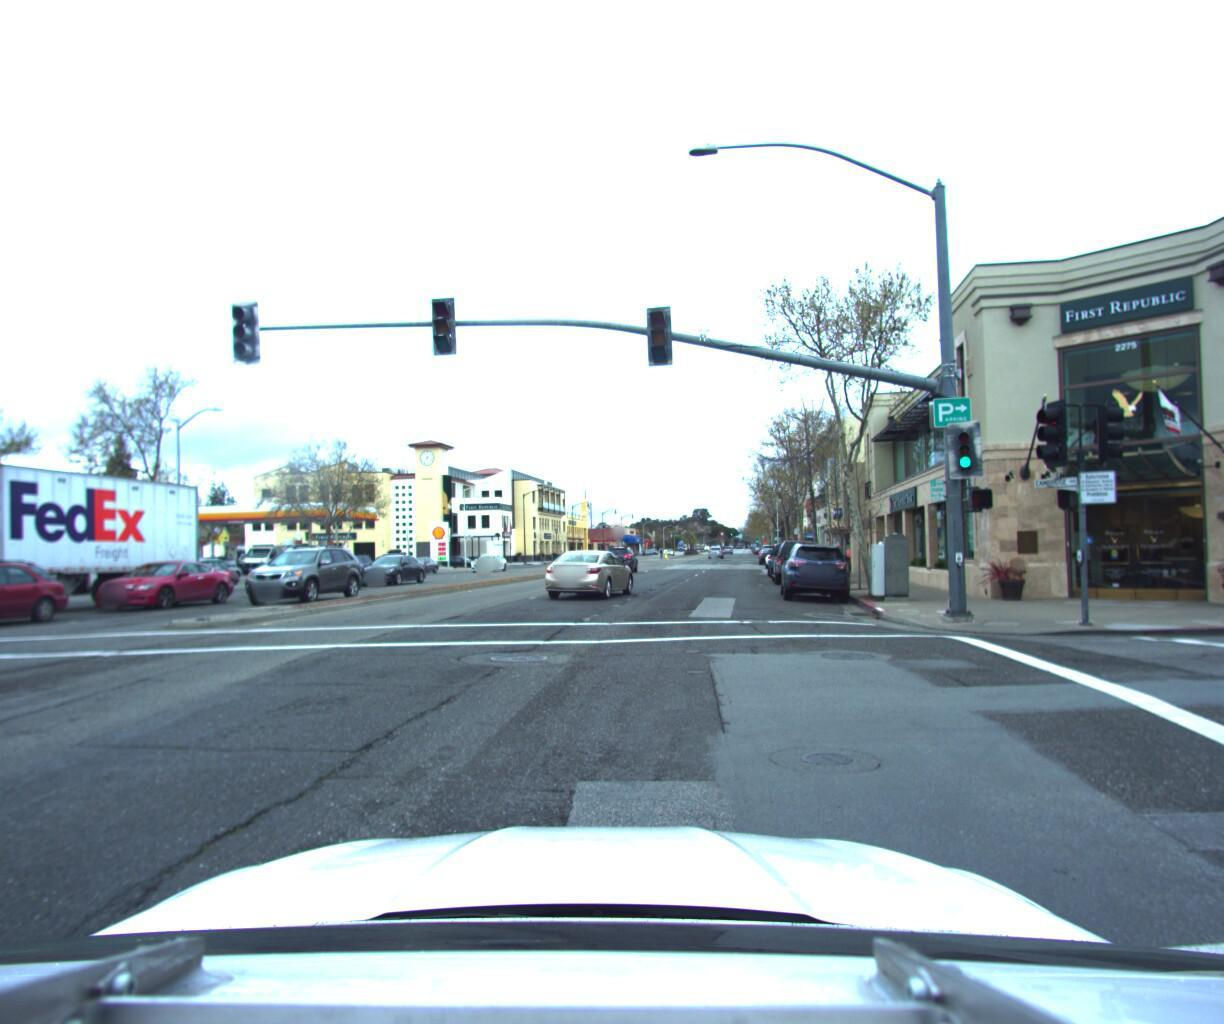car: (79, 563, 244, 620), (237, 549, 369, 613), (774, 543, 853, 613), (543, 553, 640, 606), (357, 551, 430, 596), (764, 540, 818, 594), (245, 552, 301, 581), (762, 550, 806, 586), (603, 549, 637, 579), (469, 554, 508, 577), (759, 553, 789, 578)
